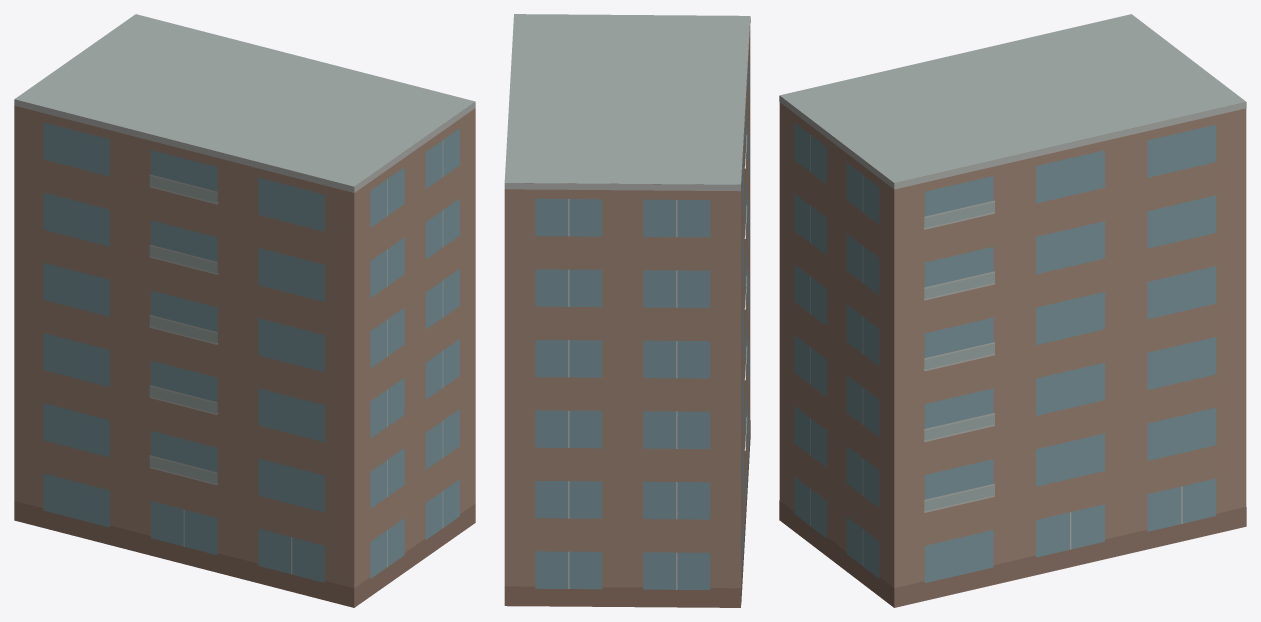
File: survey-upis-32886689.glb
3 views of the same model, side by side, from view 1: azimuth 30°, elevation 25°; view 2: azimuth 150°, elevation 25°; view 3: azimuth 270°, elevation 25° (orthographic).
Visible parts, largest first — view 1: survey-upis-32886689.tmp; view 2: survey-upis-32886689.tmp; view 3: survey-upis-32886689.tmp.
Part boxes in pixels (<box>): survey-upis-32886689.tmp: <box>14,14,475,607</box>; survey-upis-32886689.tmp: <box>504,14,750,607</box>; survey-upis-32886689.tmp: <box>779,14,1246,607</box>.
Bounding box in the file's own units: 13.71 × 16.05 × 16.
